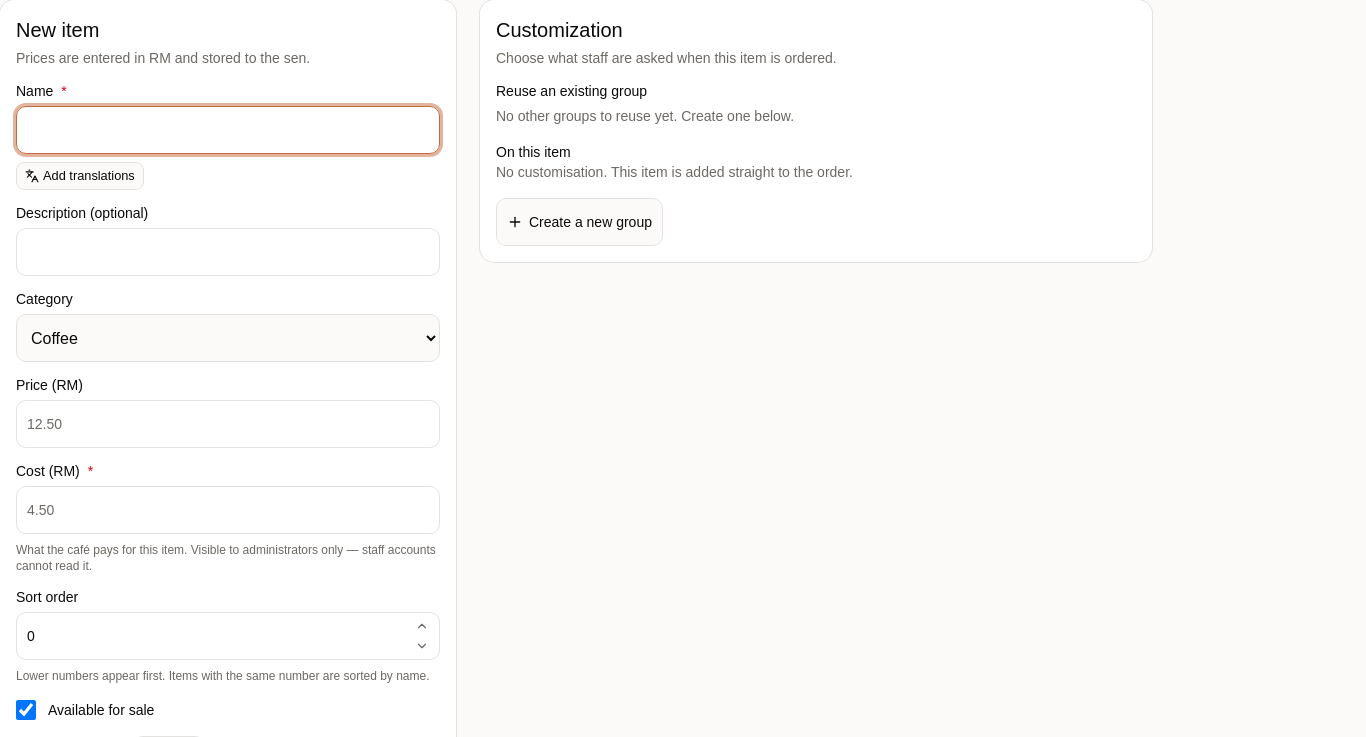
it: the arrows › steps from whatever was typed, rather than from a count of its own
Step 1. Replace the text in the number field labelled "Sort order" with "9" → [228, 636], box x1=16 y1=612 x2=440 y2=660
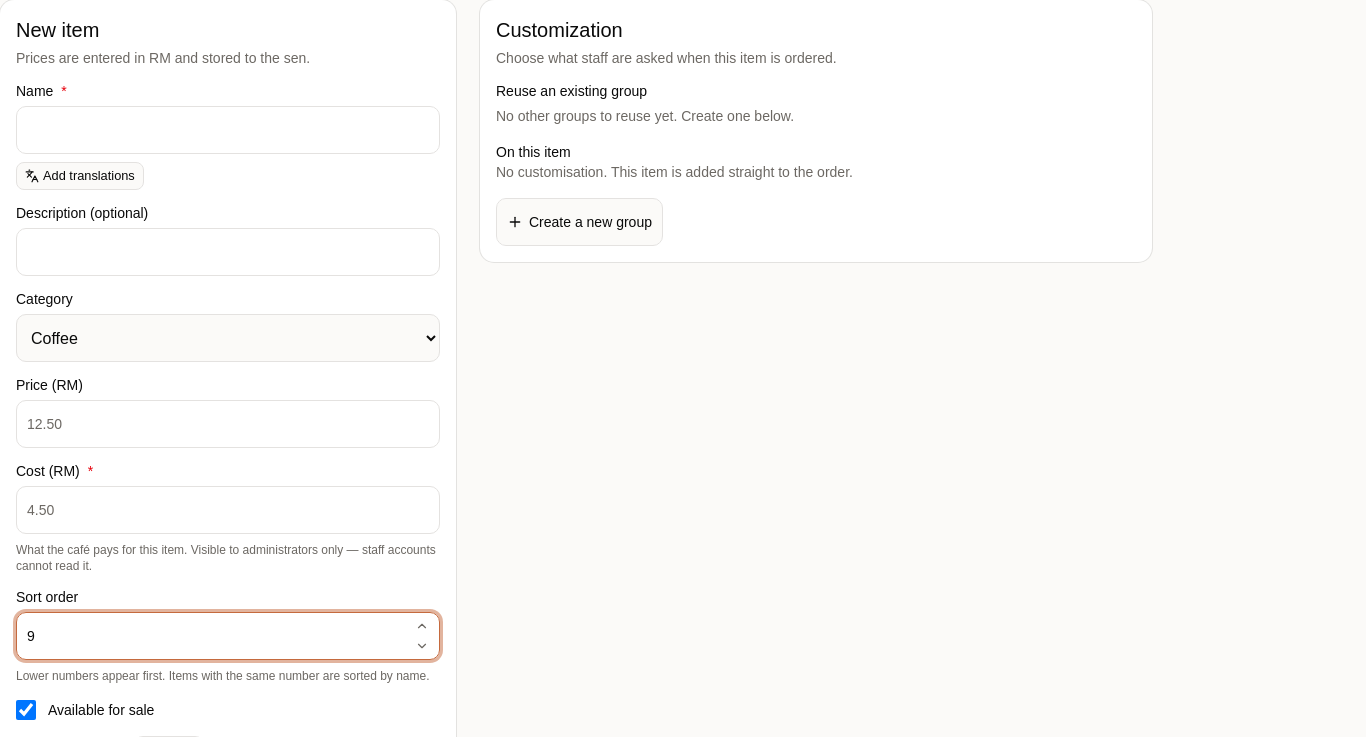
Step 2. Click the button with test id "sort-order-increase" → [422, 626], box x1=408 y1=616 x2=436 y2=636
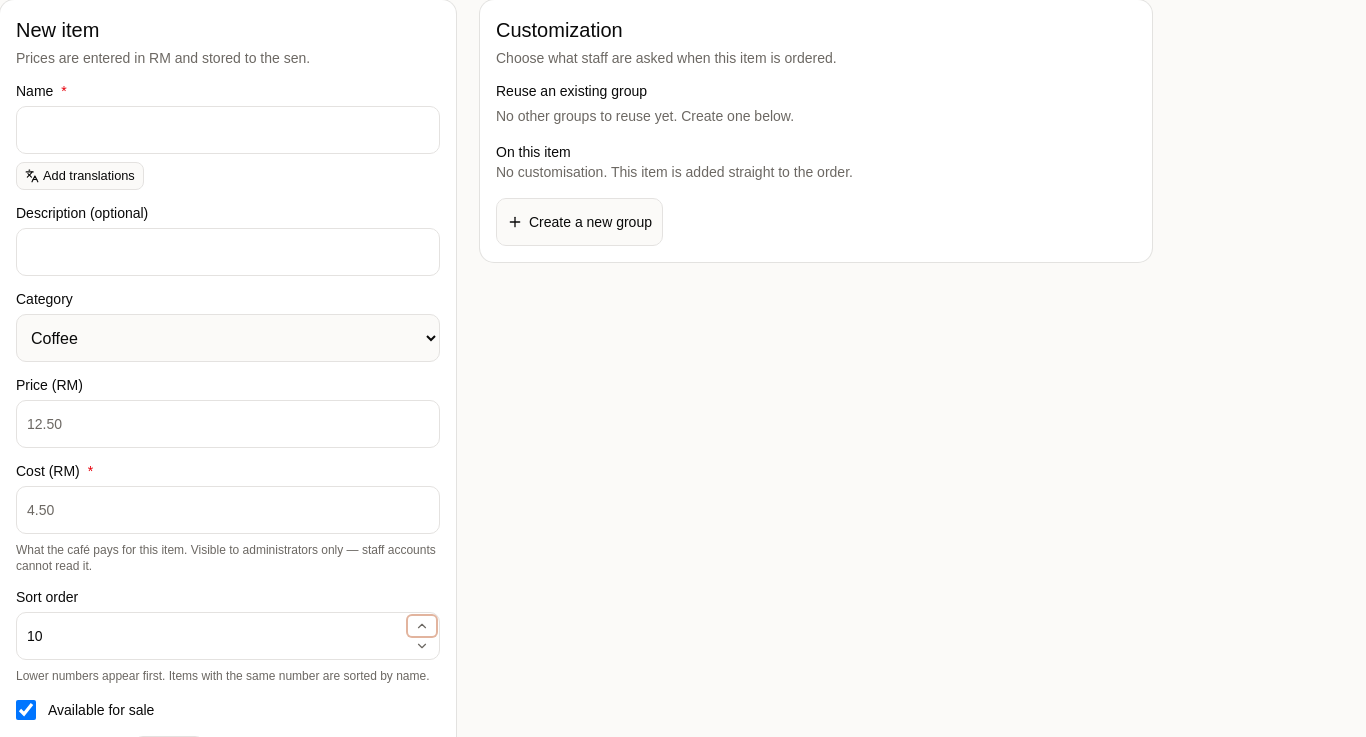
expect the number field labelled "Sort order" holds "10": met, box x1=16 y1=612 x2=440 y2=660
